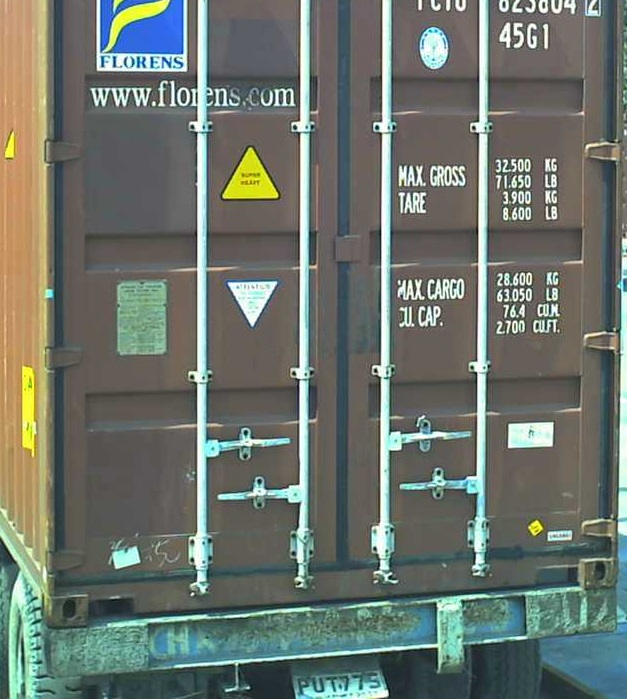container_door: (45, 1, 625, 636)
